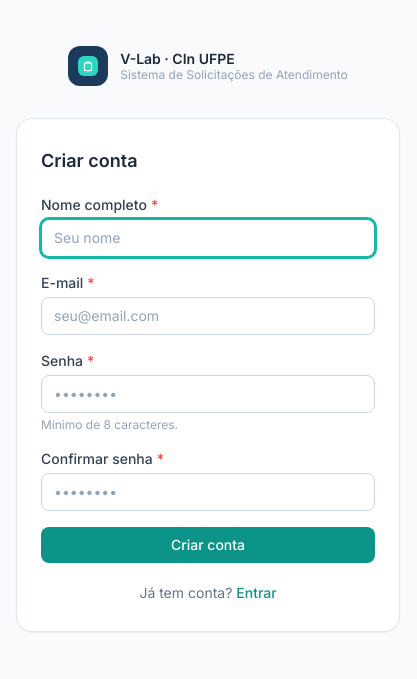
Cadastro › exibe todos os erros ao submeter vazio
Click the button "Criar conta": x=208, y=545 [41, 527, 375, 563]
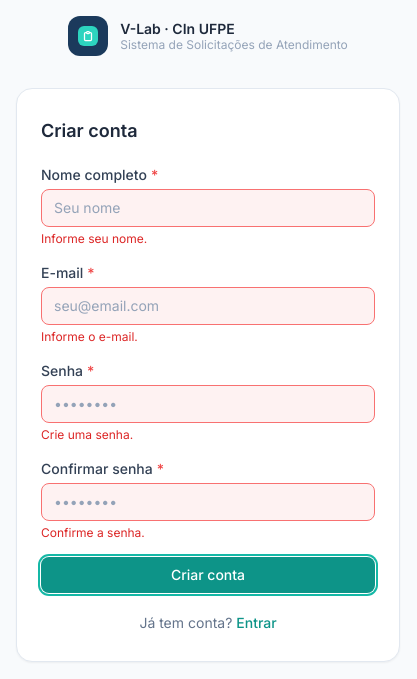
Check: the text "Informe seu nome." is shown, box [41, 231, 147, 246]
Check: the text "Informe o e-mail." is shown, box [41, 329, 138, 344]
Check: the text "Crie uma senha." is shown, box [41, 427, 133, 442]
